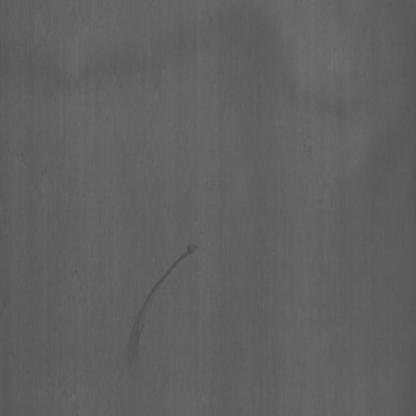water_spot: (113, 212, 198, 379)
